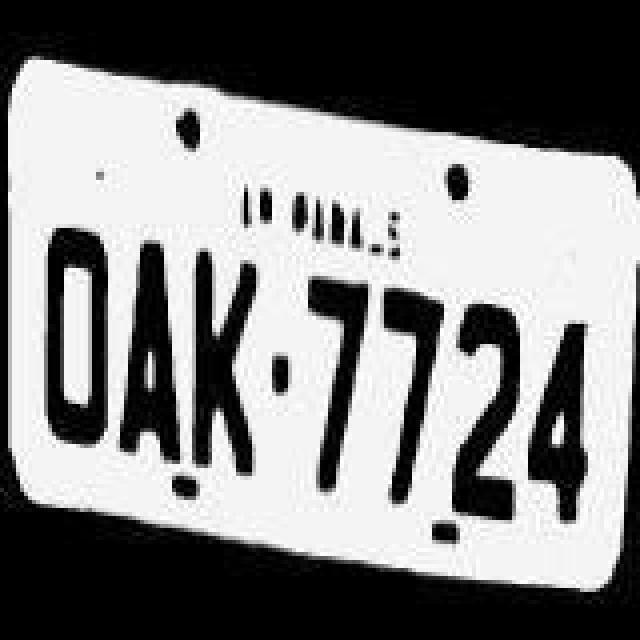2: (450, 274, 526, 530)
4: (526, 296, 602, 552)
7: (300, 270, 372, 518), (378, 278, 446, 518)
A: (118, 236, 186, 468)
K: (182, 248, 266, 476)
O: (28, 188, 116, 460)
